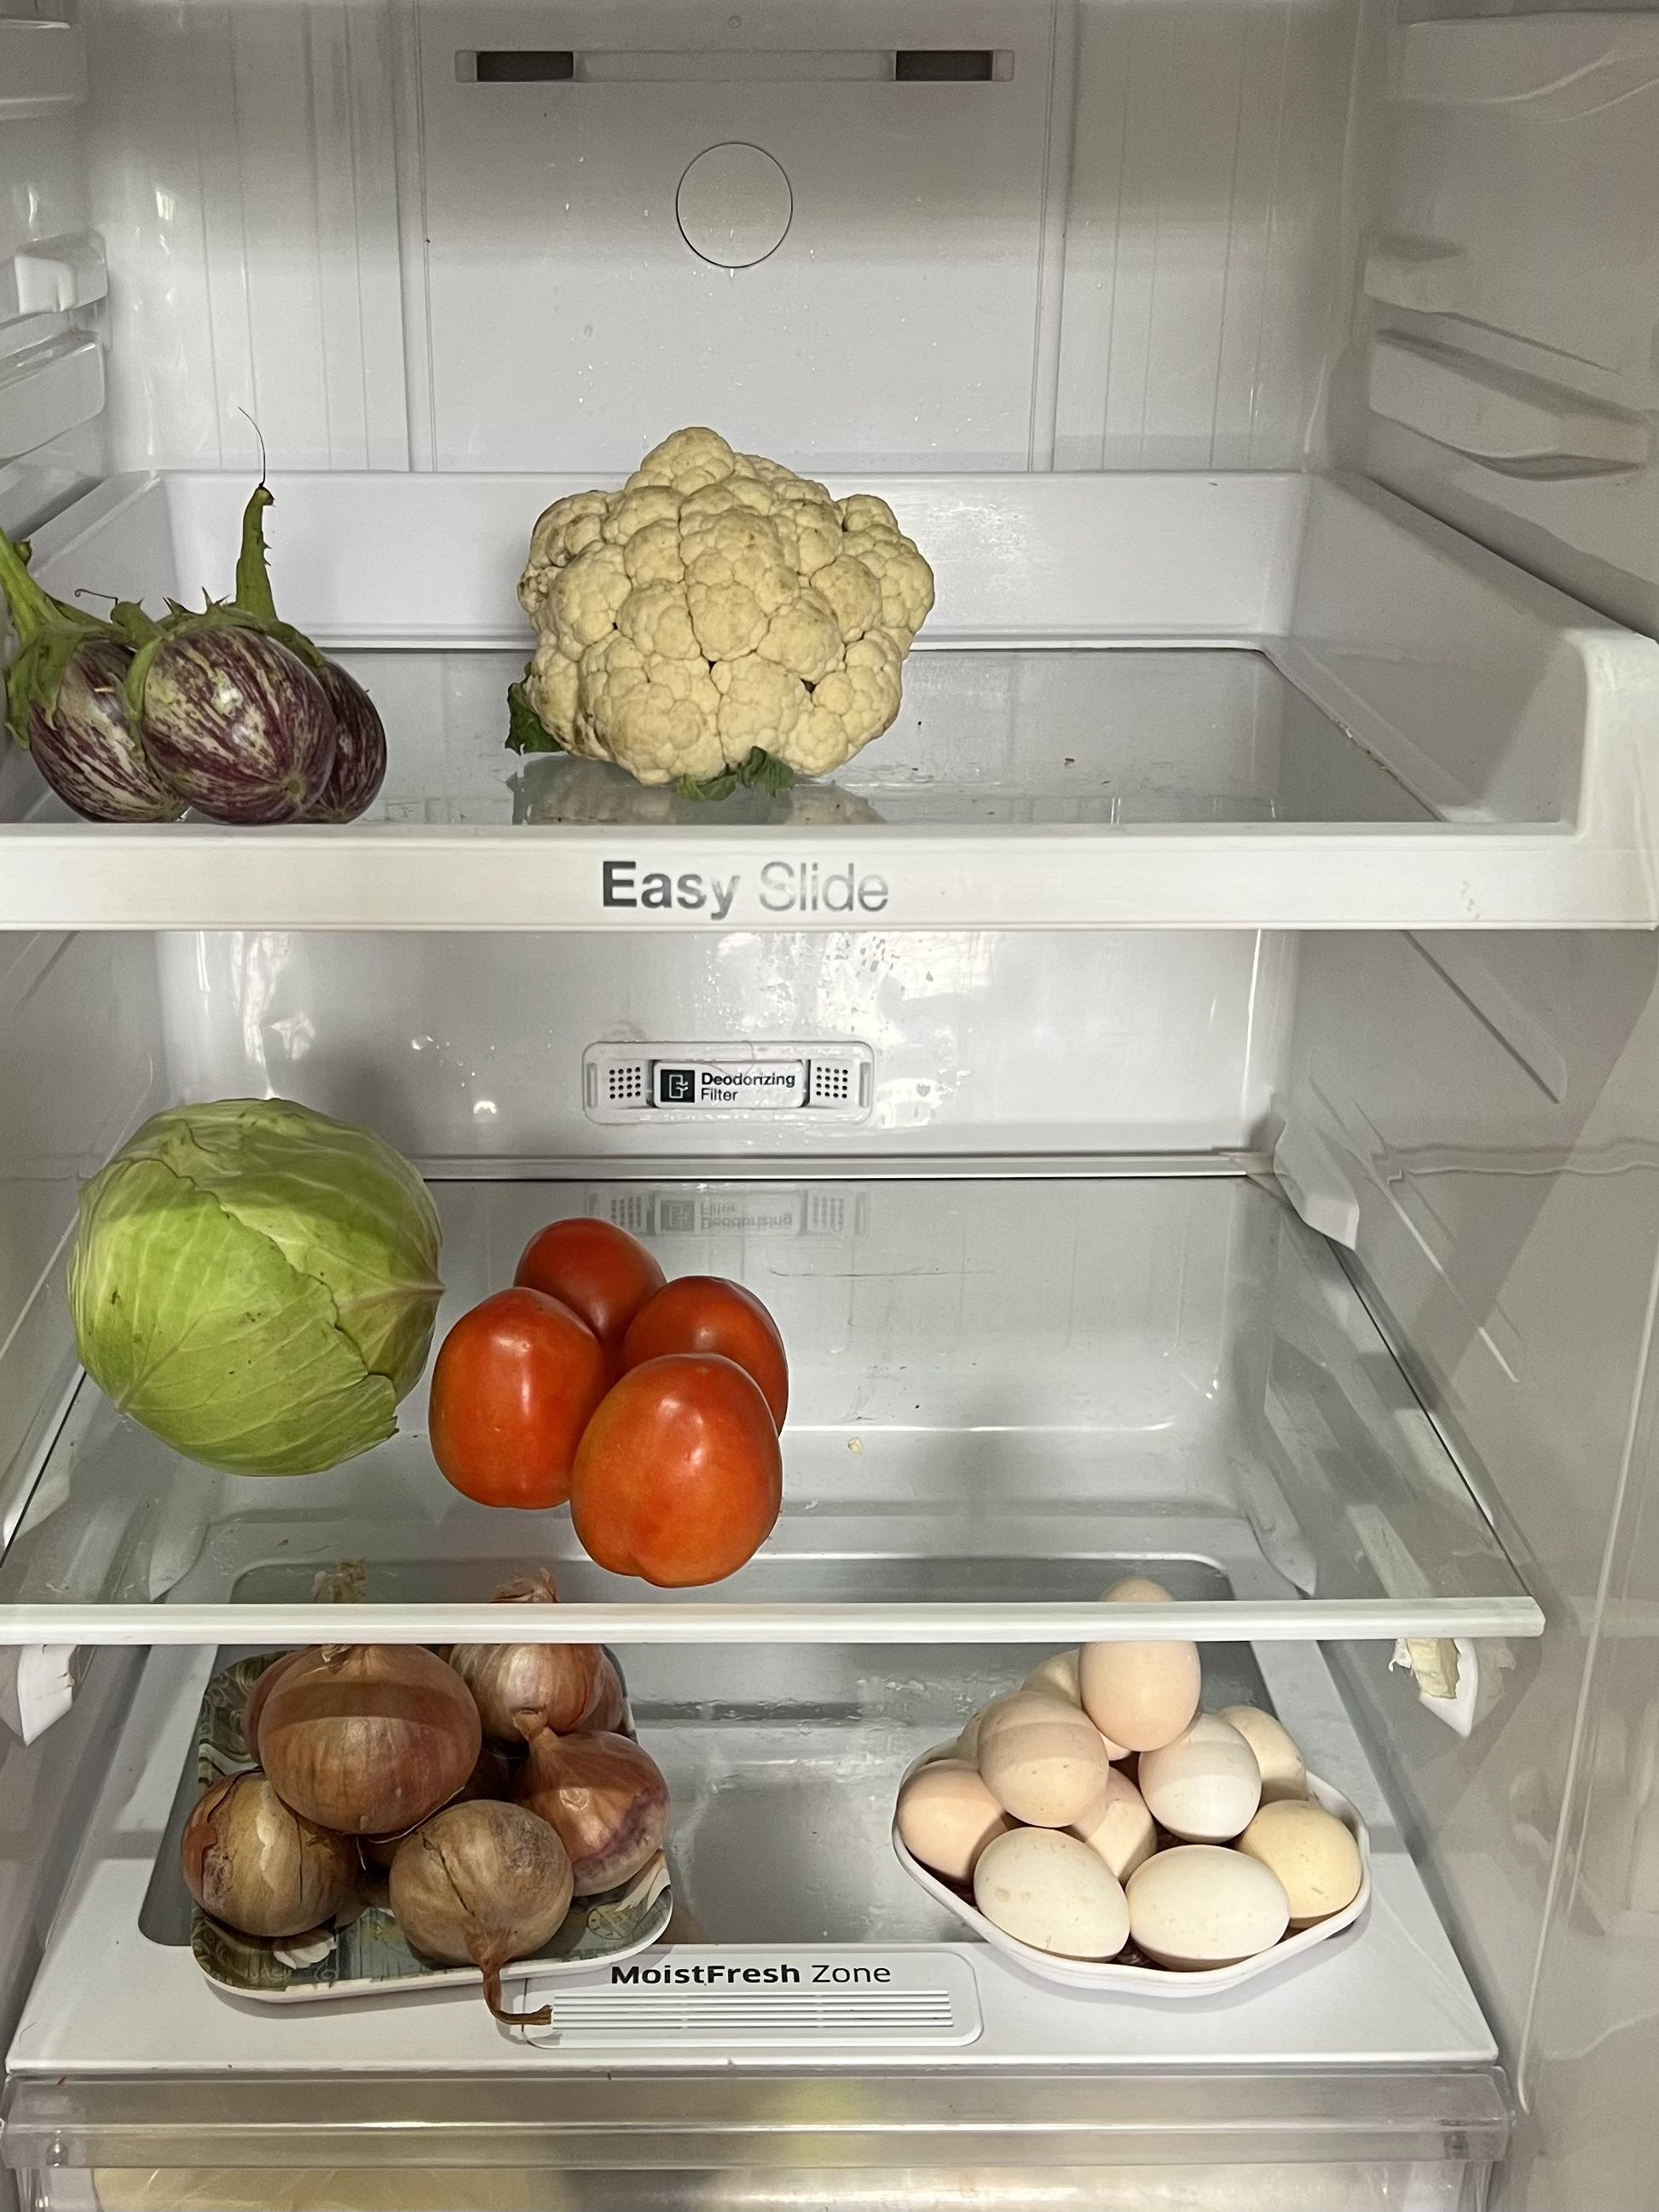bringal: (16, 559, 385, 817)
cabbage: (82, 1099, 430, 1465)
cauliflower: (518, 441, 920, 779)
egg: (896, 1642, 1363, 1961)
onion: (174, 1637, 673, 1968)
tomato: (434, 1212, 788, 1588)
